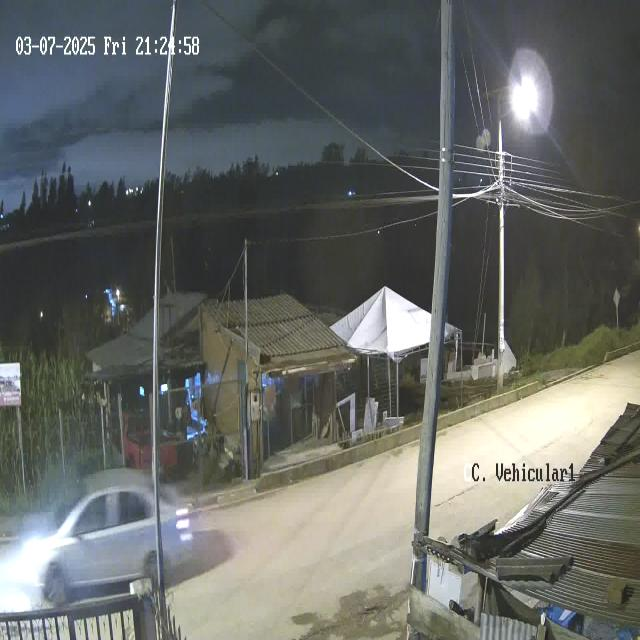SED: (24, 462, 191, 614)
